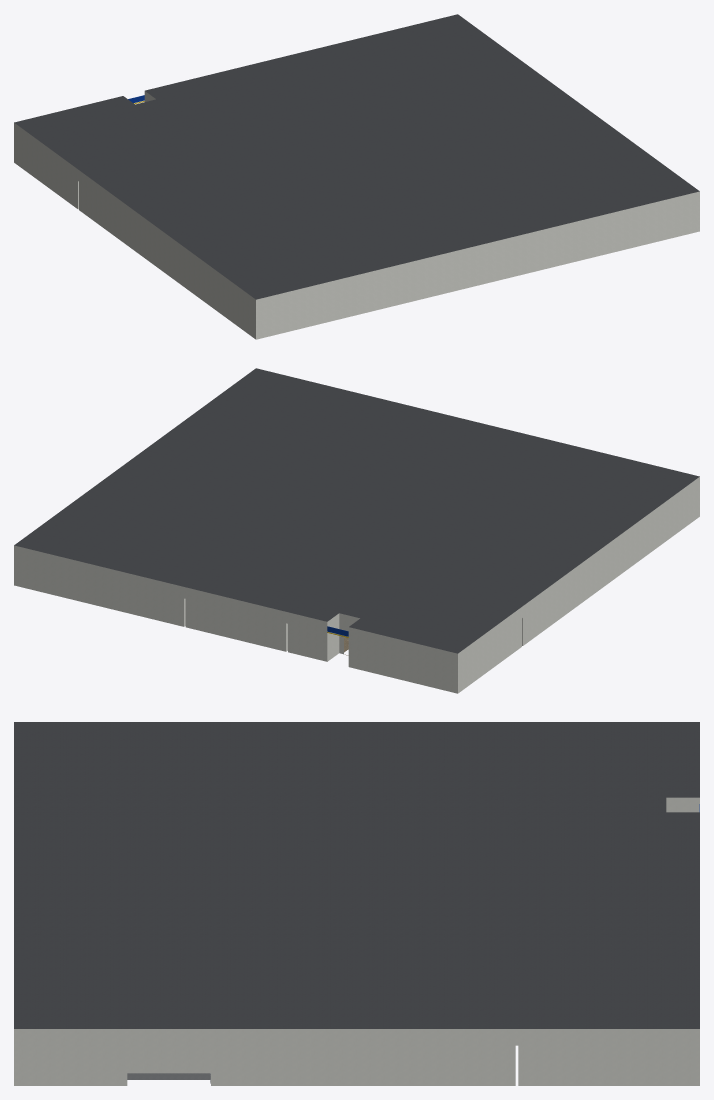
Rendered from gbi_L4_1.glb.
The picture shows the model from 3 angles, top to bottom: view 1: azimuth 30°, elevation 25°; view 2: azimuth 150°, elevation 25°; view 3: azimuth 270°, elevation 25°; orthographic projection. The views are drawn at different scales.
Parts seen in each view (by area): view 1: M_D_ceil_L4, M_D_wall_L4; view 2: M_D_ceil_L4, M_D_wall_L4; view 3: M_D_ceil_L4, M_D_wall_L4, M_GBI_vent.
Part boxes in pixels (x1,y1,x2,y2): M_D_ceil_L4: (14, 14, 699, 299); M_D_wall_L4: (14, 91, 699, 339); M_D_ceil_L4: (14, 368, 699, 653); M_D_wall_L4: (14, 477, 699, 693); M_D_ceil_L4: (14, 722, 699, 1028); M_D_wall_L4: (14, 797, 699, 1085); M_GBI_vent: (127, 1073, 210, 1079).
Size of the model in its own units: 52.2 by 4.5 by 49.3.
22 materials, 11 textured.
